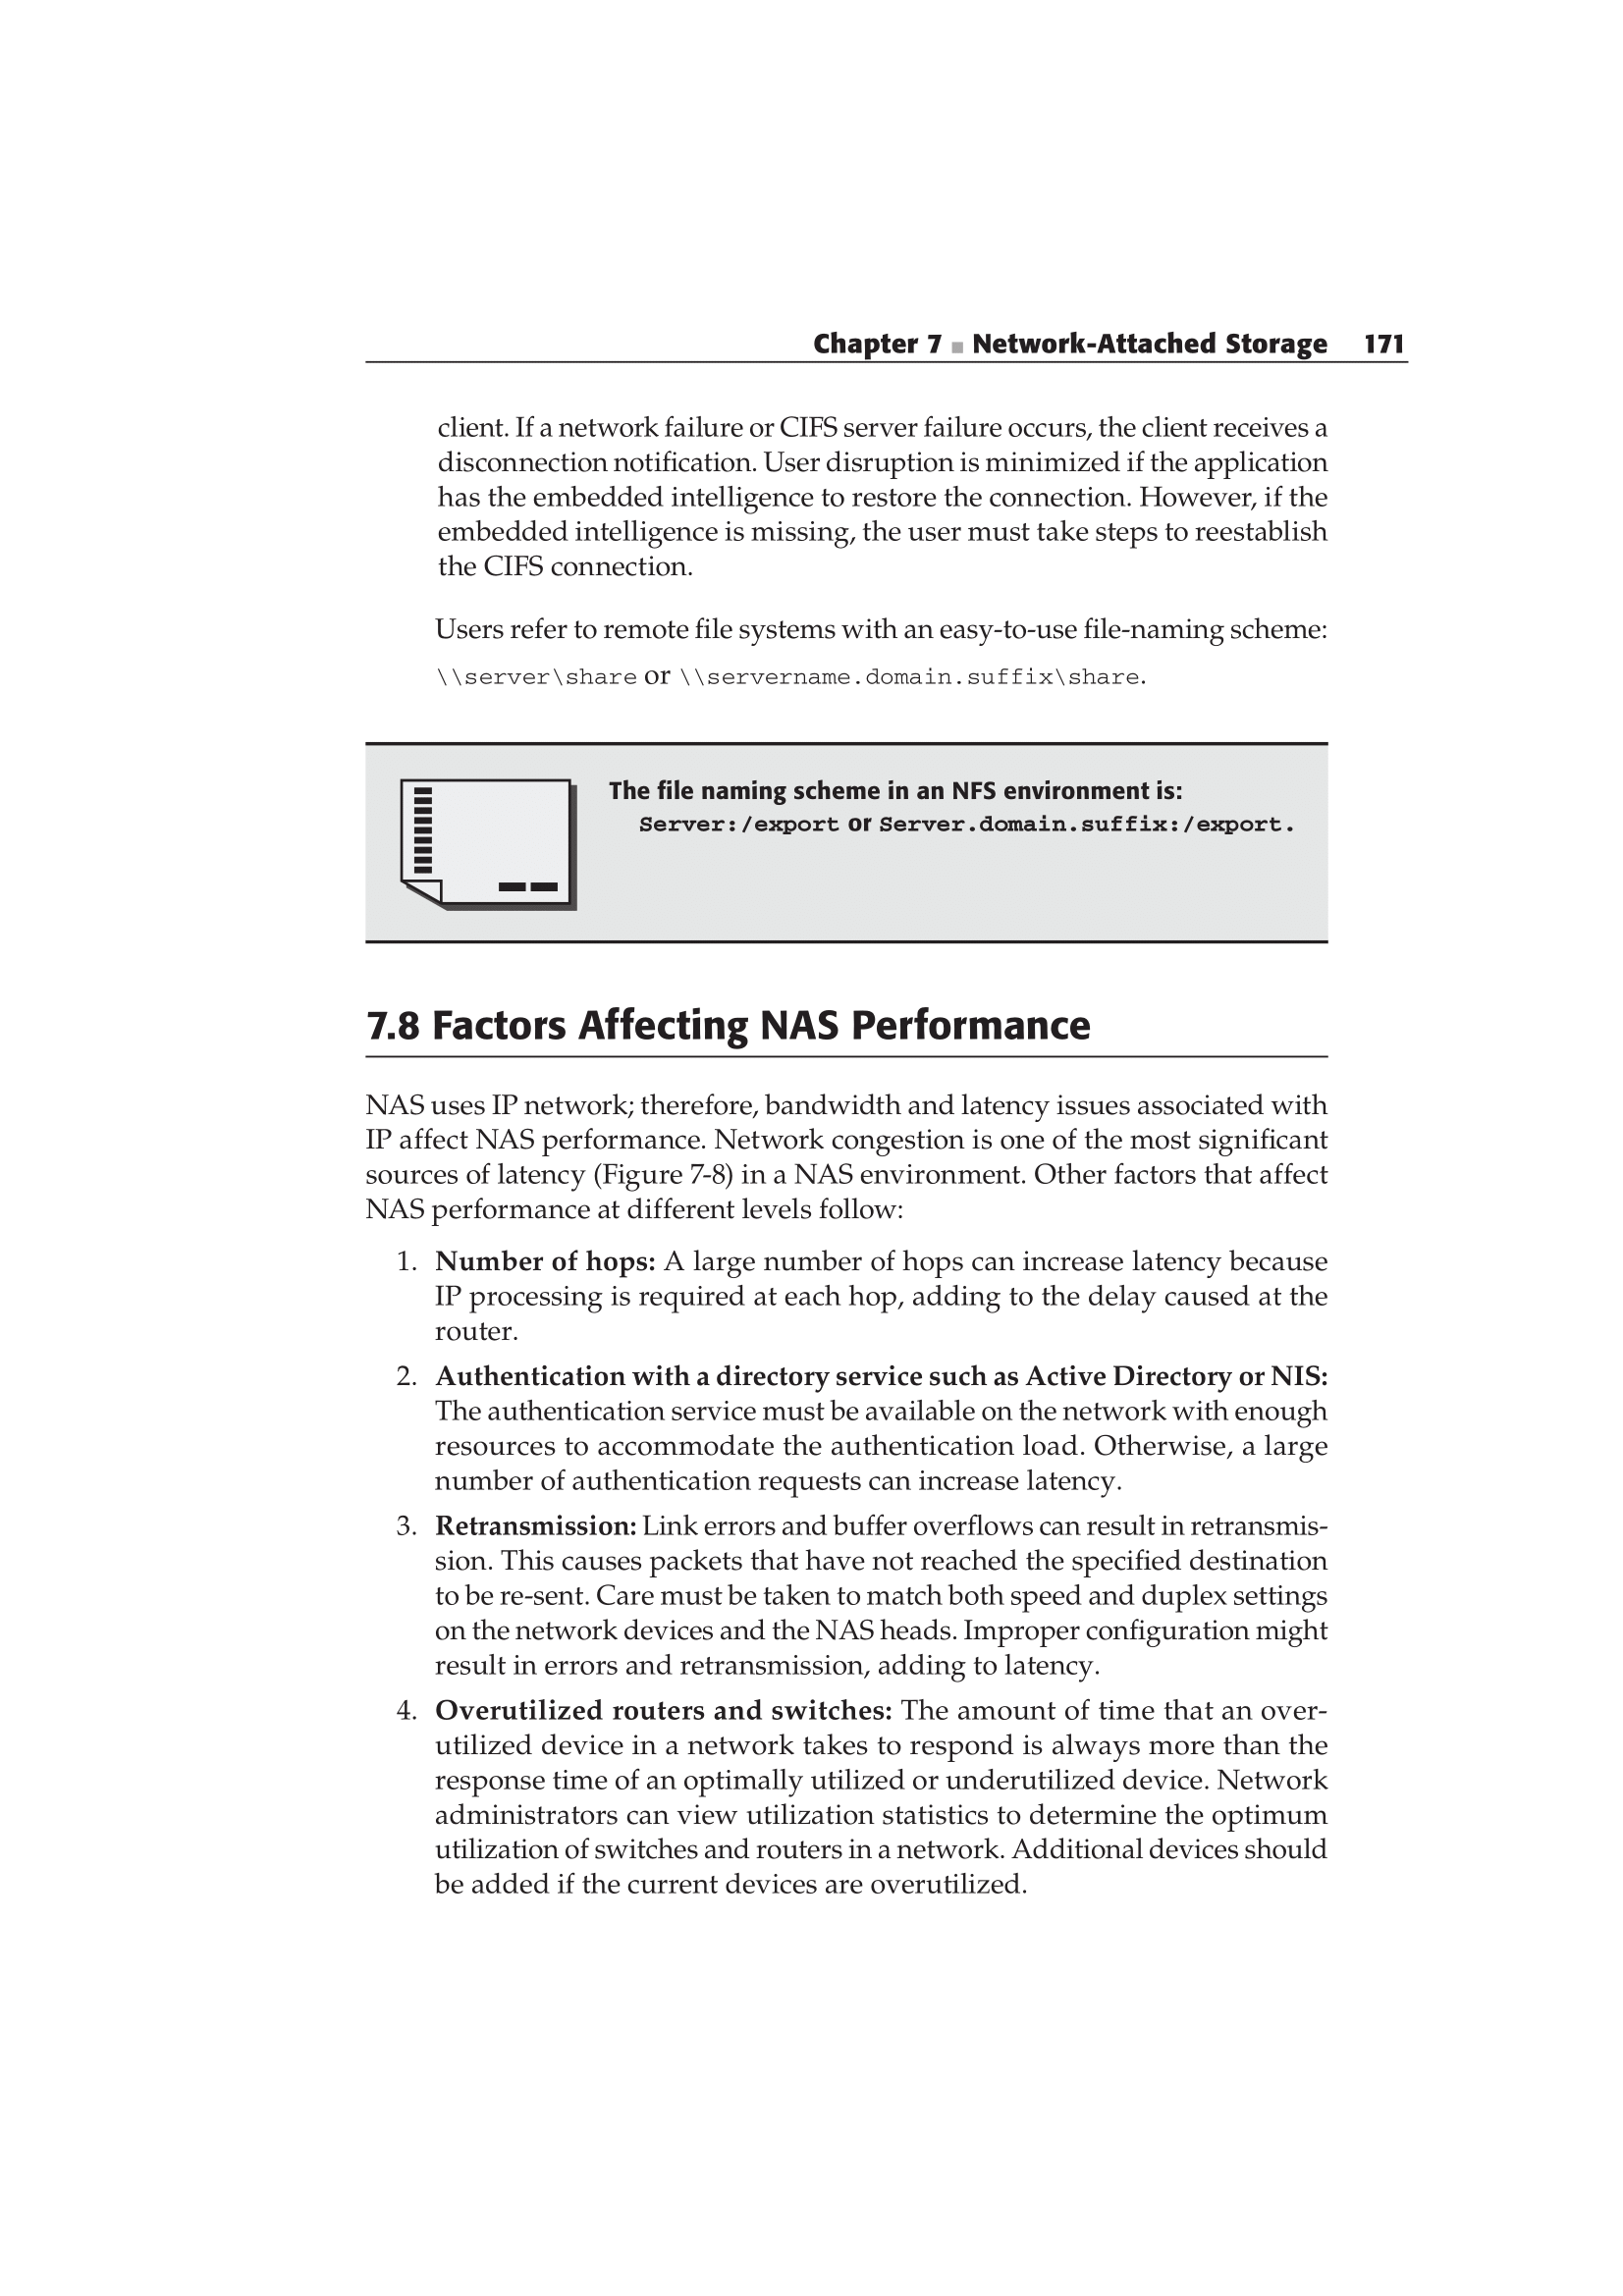Image: (393, 771, 585, 908)
Paragraph: (420, 1689, 1342, 1922), (420, 1506, 1351, 1680), (420, 411, 1328, 588), (328, 1078, 1356, 1229), (429, 1366, 1342, 1506), (416, 588, 1351, 707), (420, 1241, 1342, 1355), (594, 762, 1316, 853), (357, 999, 1105, 1050), (780, 319, 1430, 356)
